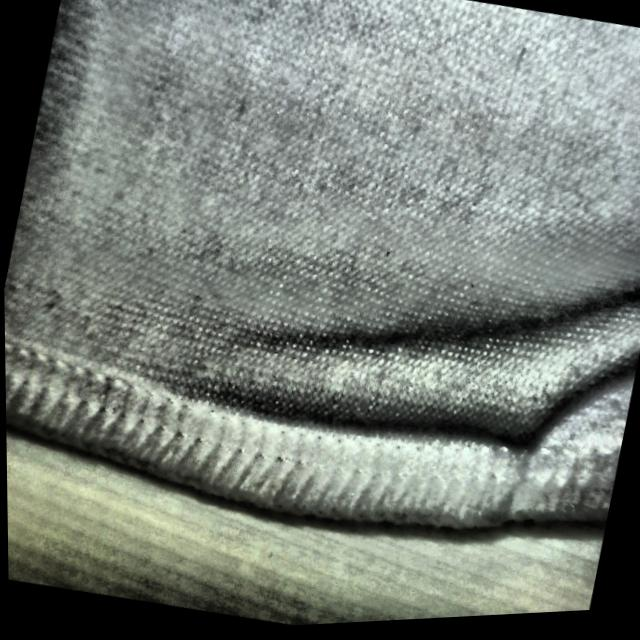seam: (404, 317, 615, 564)
